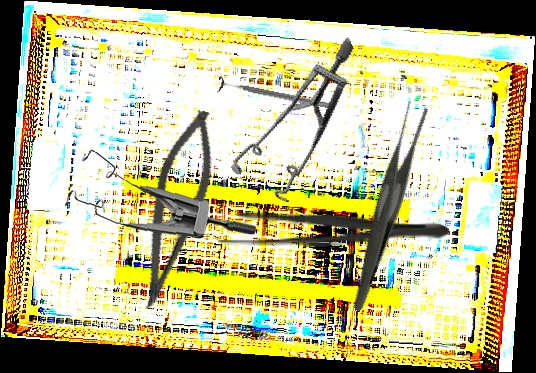Dressing Forceps: (293, 98, 478, 312), (218, 210, 449, 249)
Fixation Ring: (216, 74, 337, 117)
Micro Scissor: (130, 104, 225, 317)
Speculum: (202, 36, 400, 218), (63, 142, 258, 245)
